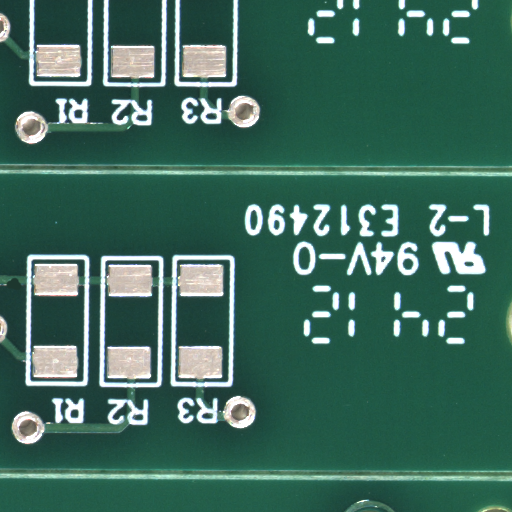Mouse_bite: (14, 283, 29, 295)
